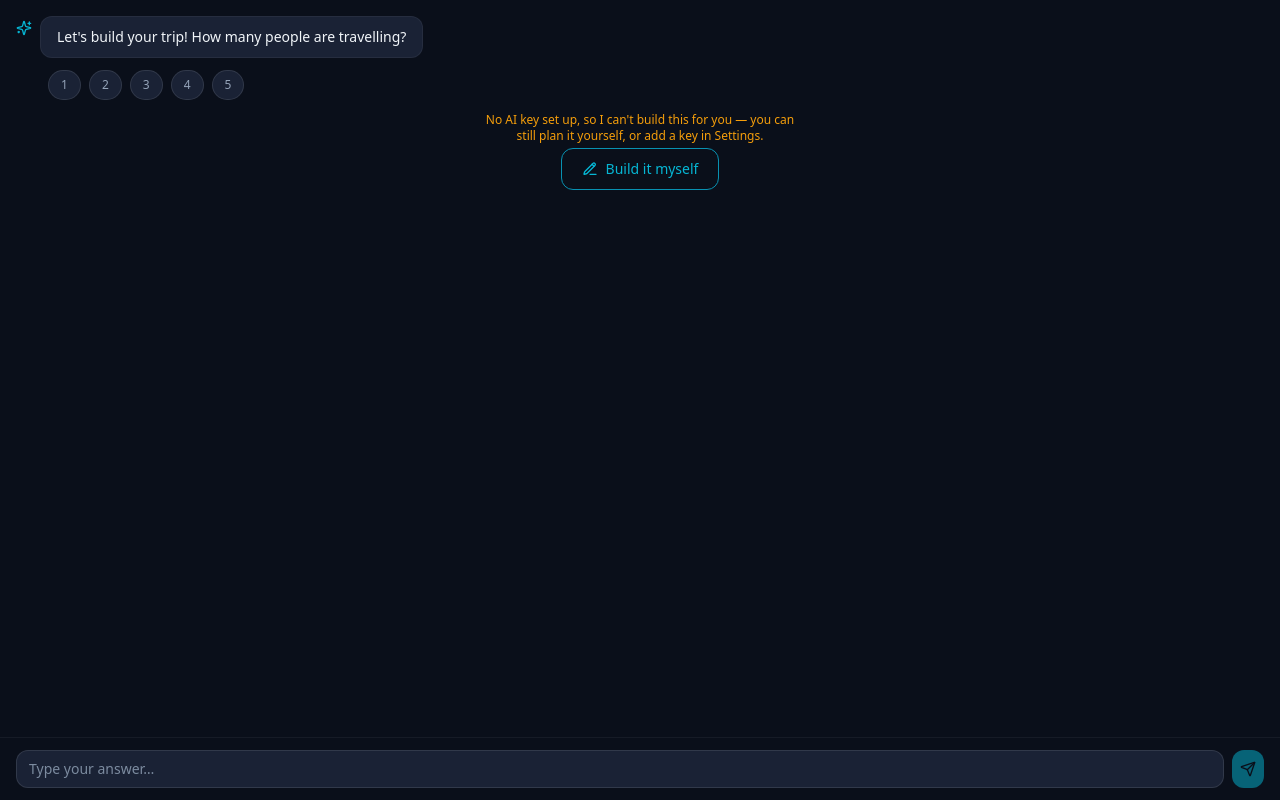
IntakeChat › advances to kids question after entering traveller count
Type "2" into the field with test id "intake-input".
click(620, 769); type("2")  # box [16,750,1224,788]
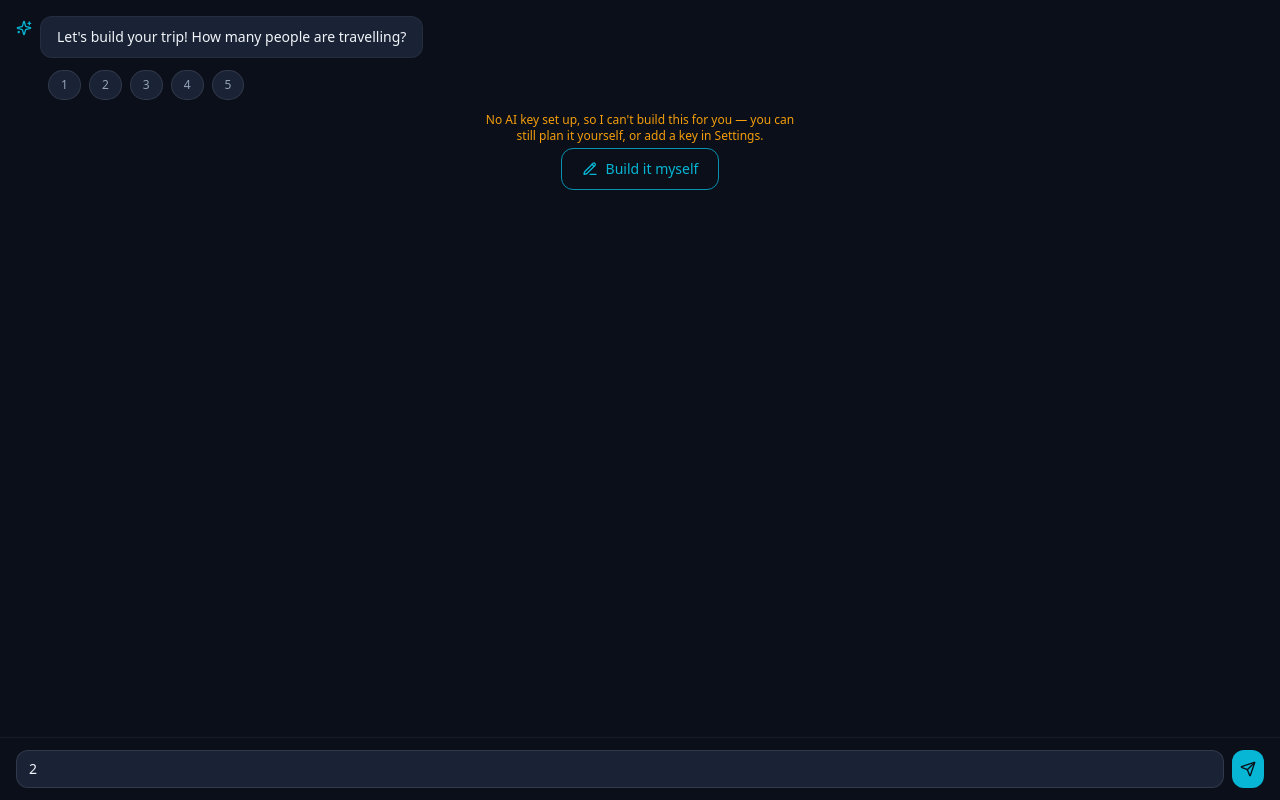
Submit the form with test id "intake-input", box [16,750,1264,788]
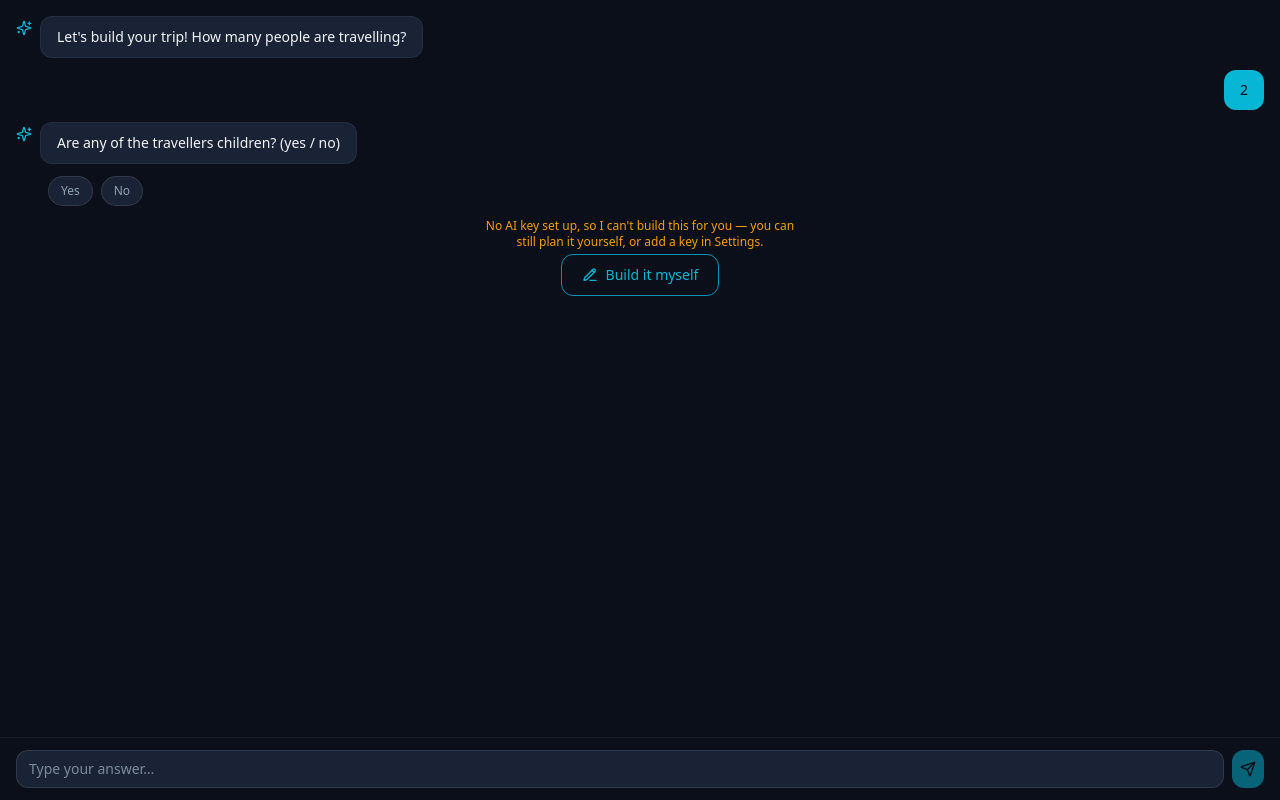
Expected: the text "Are any of the travellers children? (yes / no)" is shown, [40,122,357,164]
